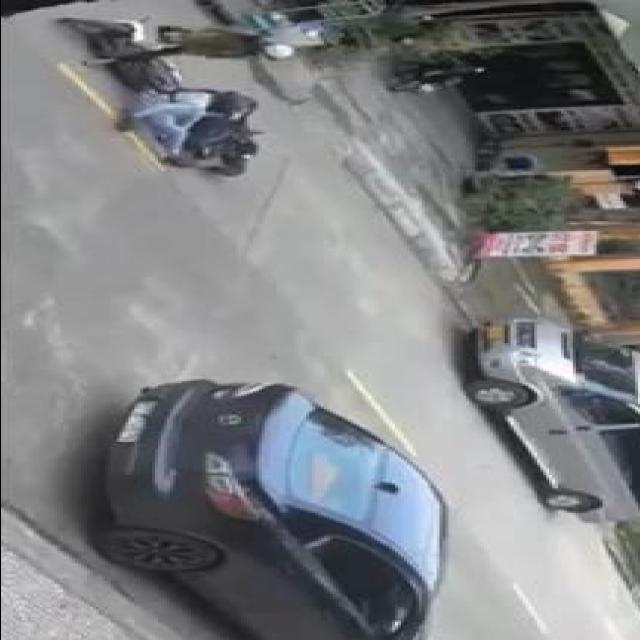accident: (49, 11, 298, 181)
